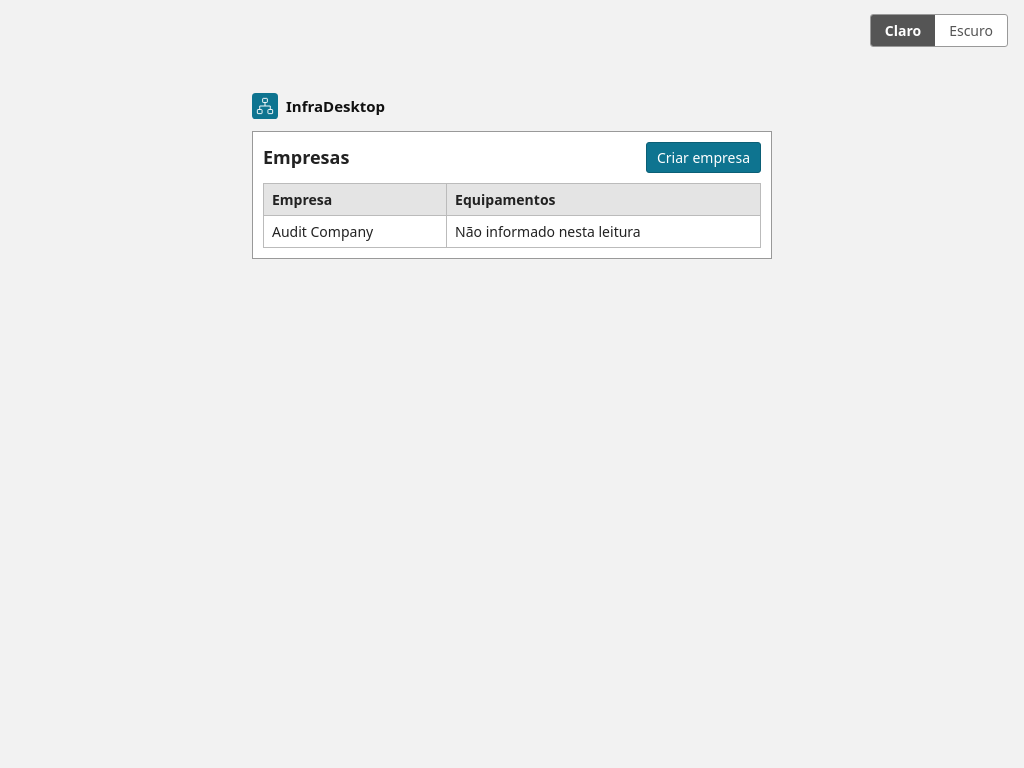
a valid company selection still opens its workspace after the service changes profile context
Expected: the heading "Empresas" is shown, [263,145,349,169]
Click the cell "Audit Company" at (355, 231), box [264,215,447,247]
Wait 2000 ms
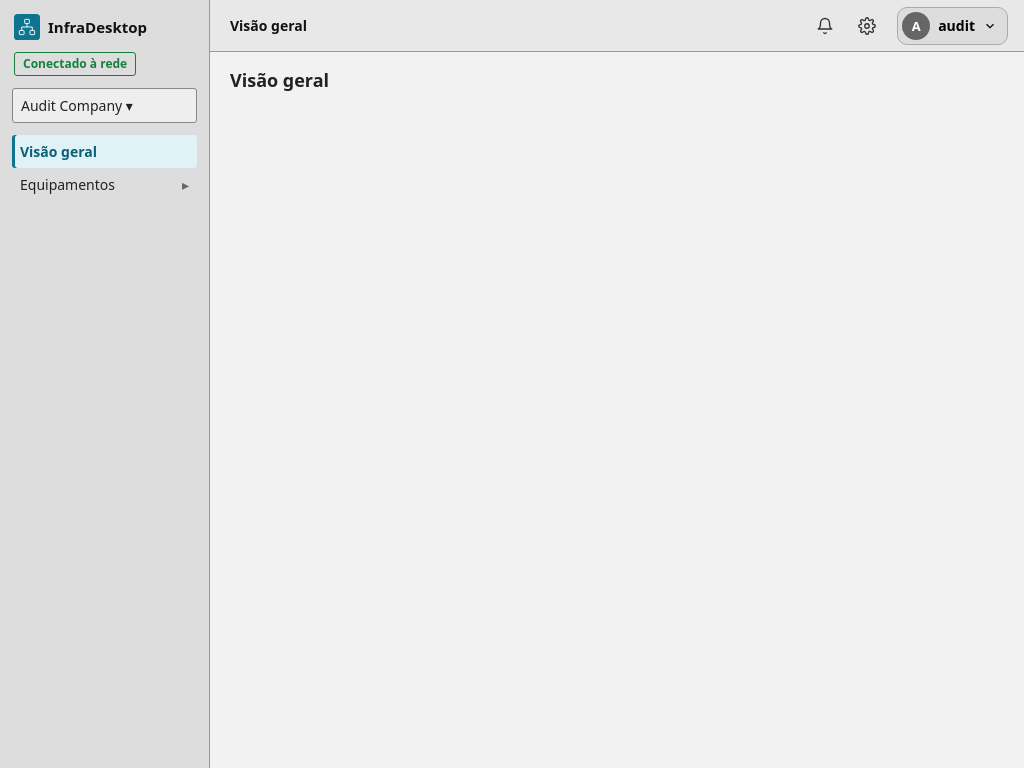
Result: the heading "Visão geral" is shown at [230,68,329,92]
Result: the link "Audit Company ▾" is shown at [12,88,197,123]
